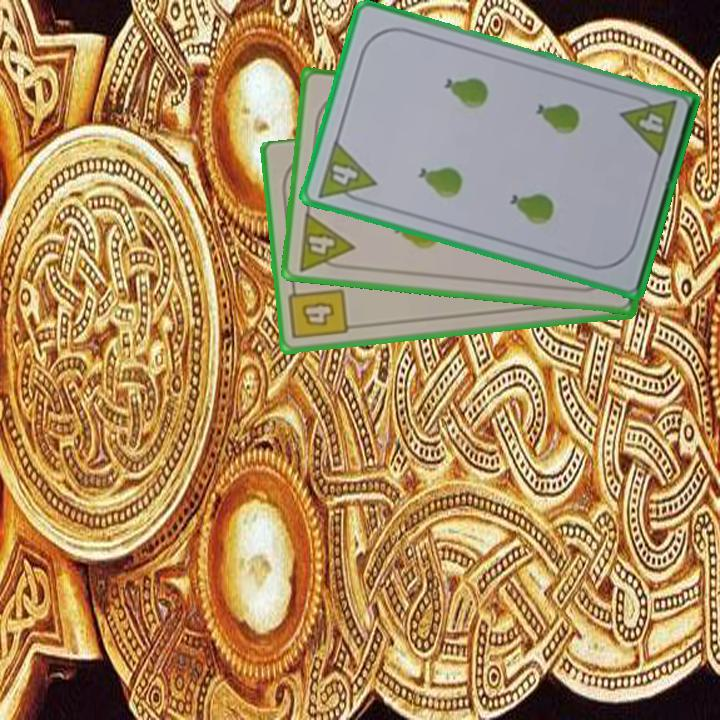4b: (285, 280, 351, 342)
4p: (314, 136, 379, 209), (617, 90, 680, 161), (294, 208, 357, 274)
